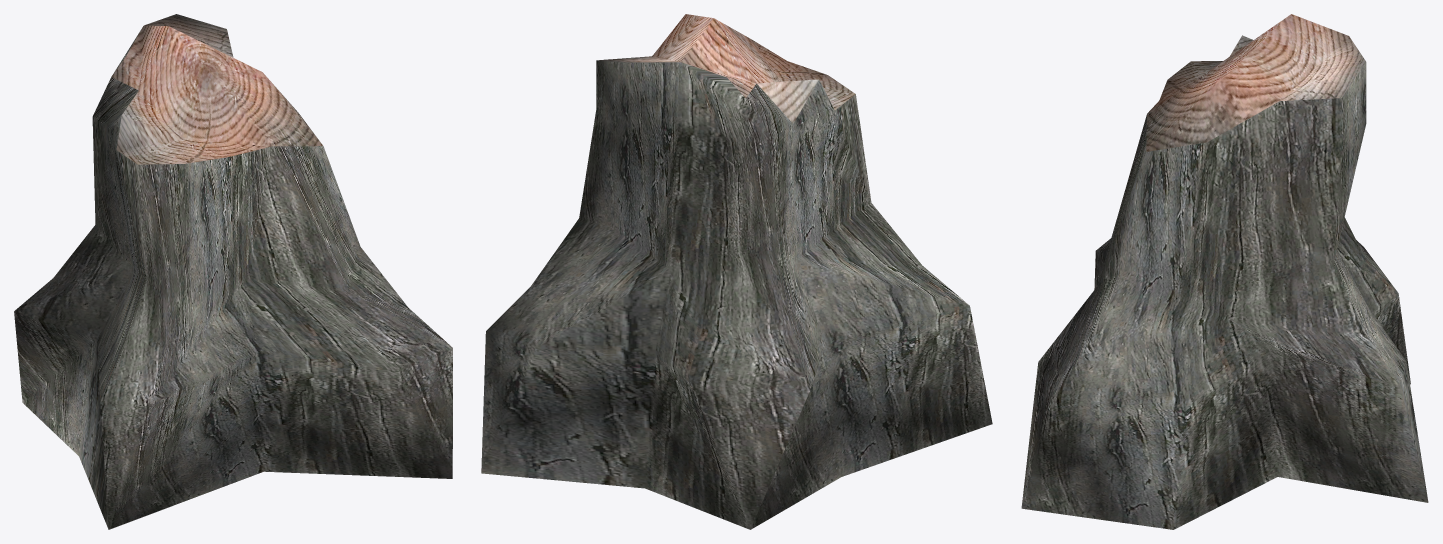
The model's file is decd_stump_med_l1.fbx.
3 views of the same model, side by side, from view 1: azimuth 30°, elevation 25°; view 2: azimuth 150°, elevation 25°; view 3: azimuth 270°, elevation 25° (orthographic). The views are drawn at different scales.
Visible parts, largest first — view 1: mesh_node; view 2: mesh_node; view 3: mesh_node.
Boxes of the visible parts, <box> form: mesh_node: <box>14,14,452,529</box>; mesh_node: <box>481,14,992,529</box>; mesh_node: <box>1021,14,1428,529</box>.
Bounding box in the file's own units: 2.75 × 2.96 × 2.63.
